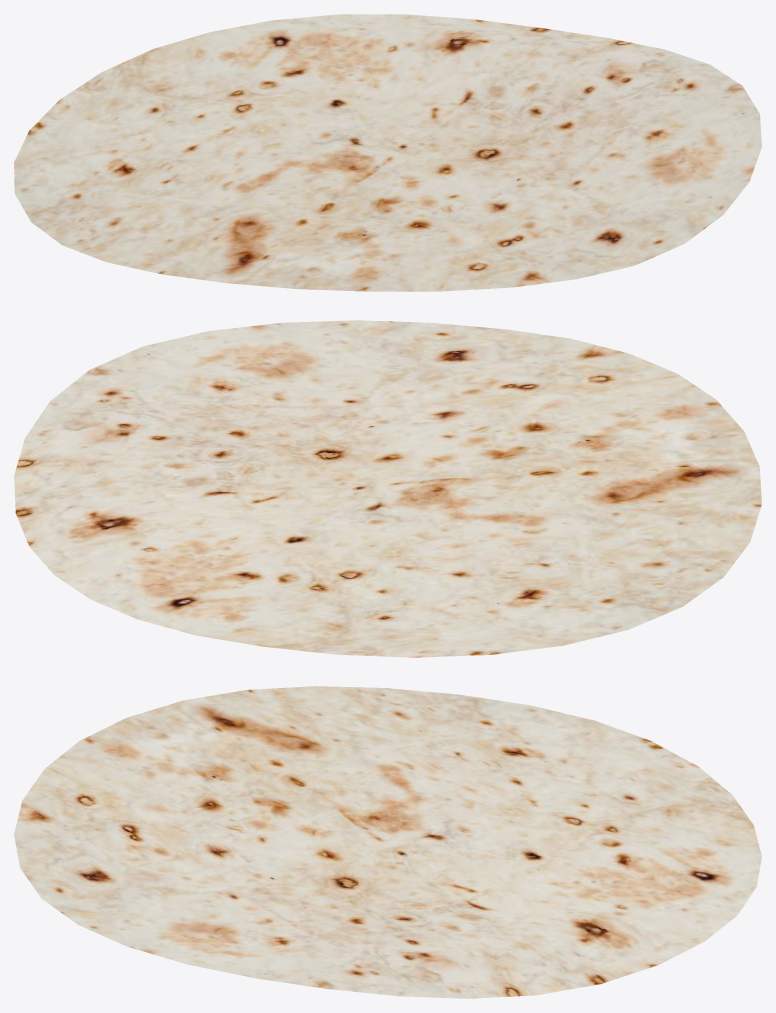
File: tortilla.fbx
3 views of the same model, one above another, from view 1: azimuth 30°, elevation 25°; view 2: azimuth 150°, elevation 25°; view 3: azimuth 270°, elevation 25° (orthographic). The views are drawn at different scales.
Visible parts, largest first — view 1: Cylinder; view 2: Cylinder; view 3: Cylinder.
Part boxes in pixels (box(x1,y1,x2,y2)): Cylinder: box(14, 14, 761, 291); Cylinder: box(14, 320, 761, 657); Cylinder: box(14, 686, 761, 998).
Size of the model in its own units: 201 by 9.03 by 195.
